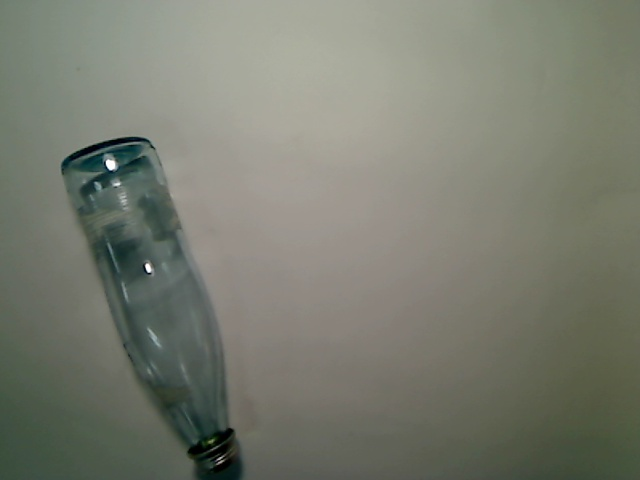bottle: (61, 137, 242, 474)
